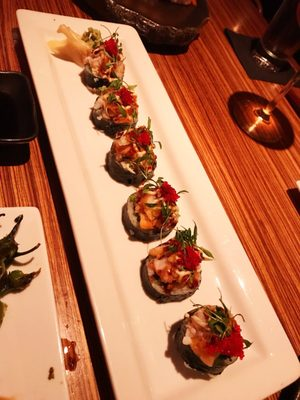salad: (227, 91, 298, 150)
